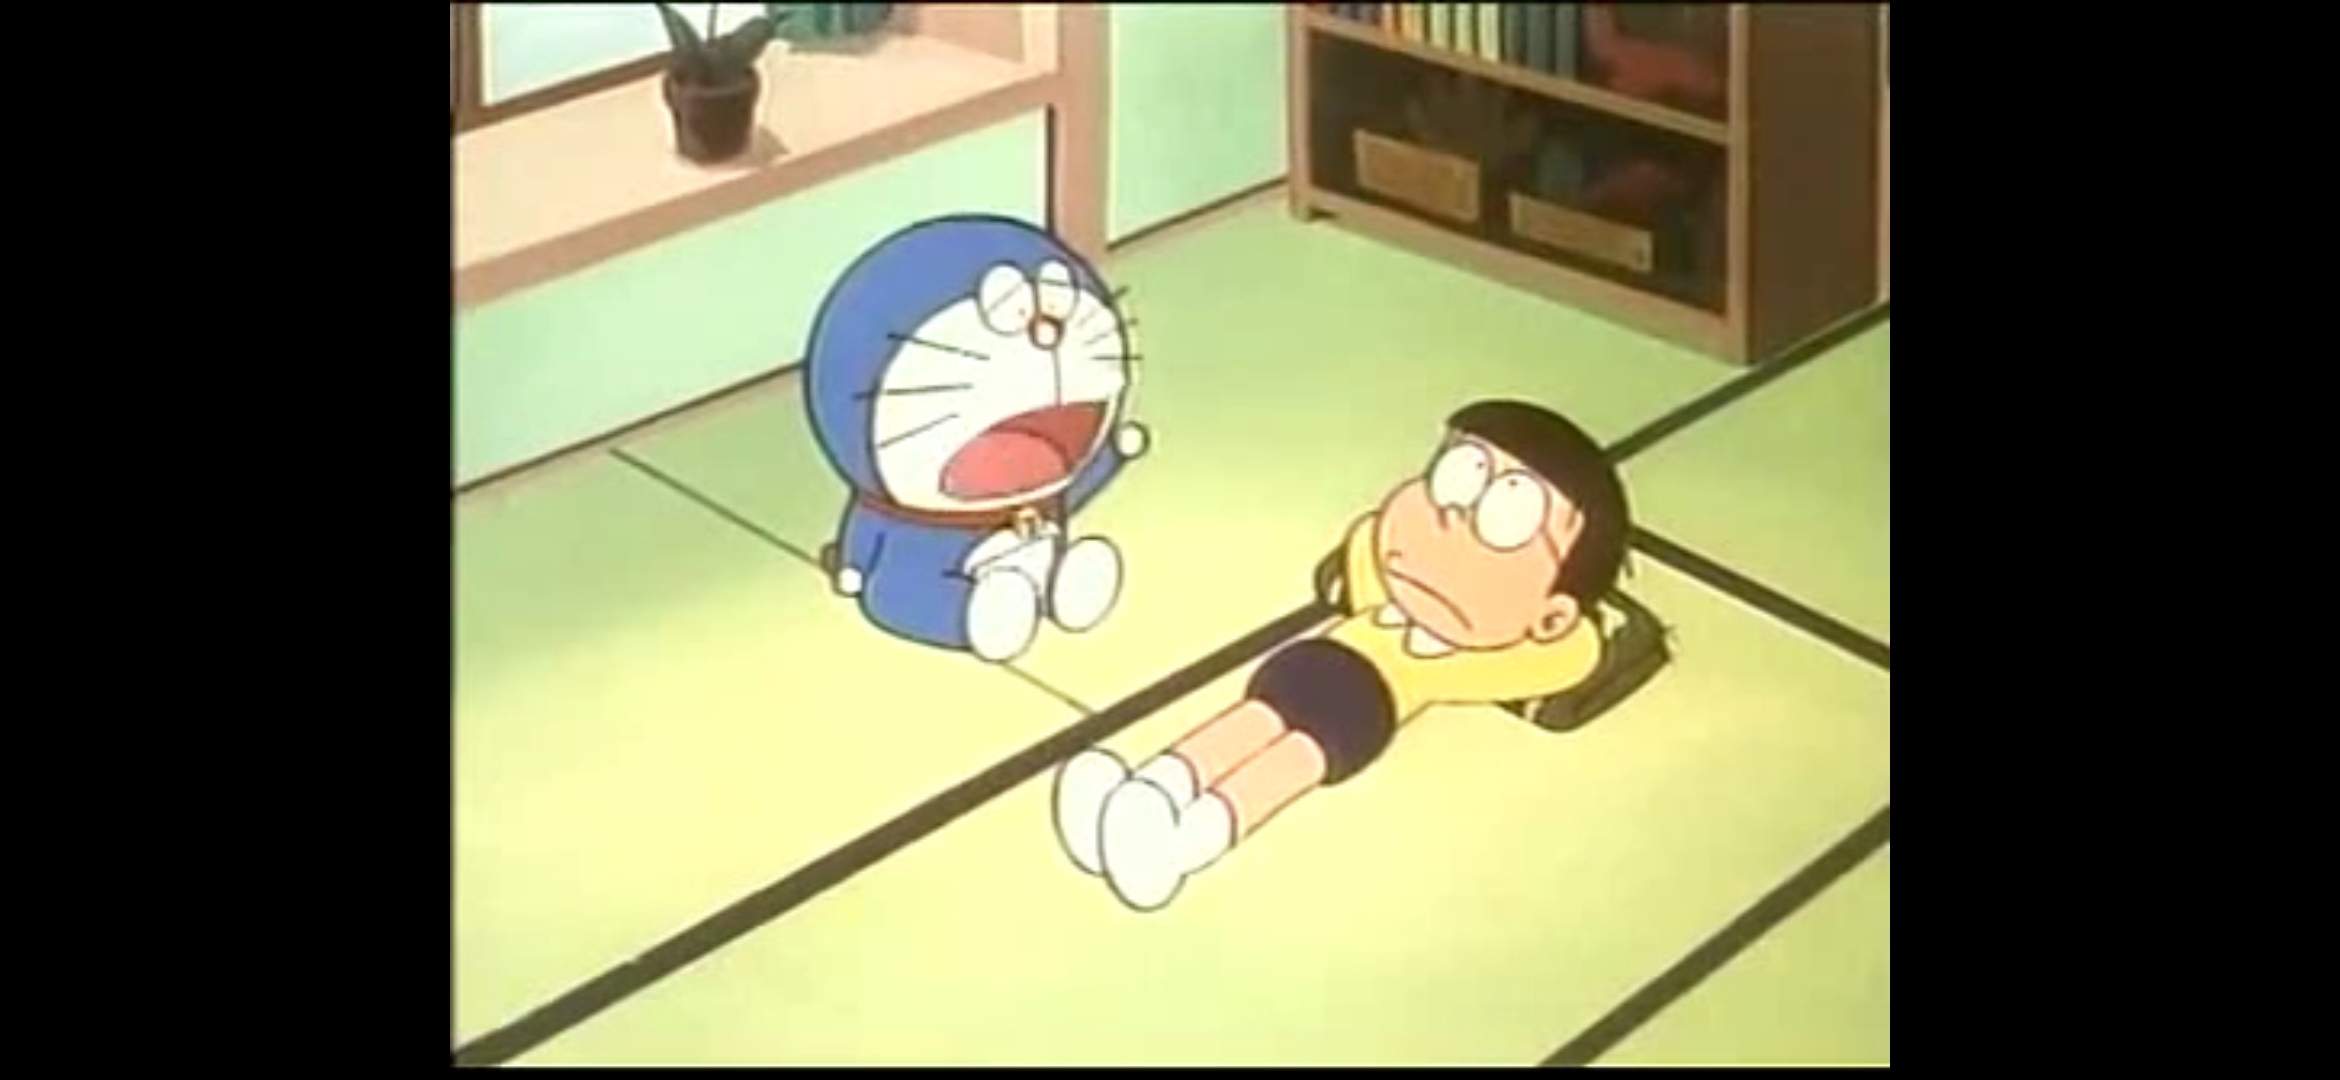Doraemon: (801, 215, 1128, 536)
Nobi: (1371, 398, 1627, 649)
